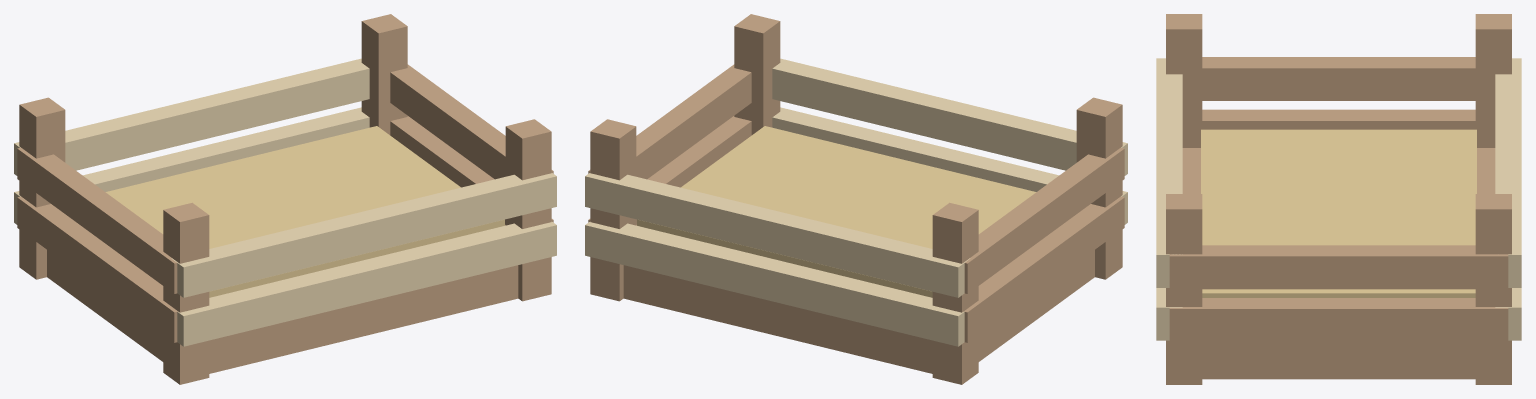
The model's file is nest.glb.
3 renders of one model, left to right at view 1: azimuth 30°, elevation 25°; view 2: azimuth 150°, elevation 25°; view 3: azimuth 270°, elevation 25°, orthographic. The views are drawn at different scales.
Parts seen in each view (by area): view 1: Straw, Rail.004, Rail, Bottom, Rail.005, Rail.006, Rail.002, Rail.001, Rail.007, Post, Post.002, Post.003 (+2 smaller); view 2: Straw, Rail.005, Rail.001, Bottom, Rail.004, Rail.006, Rail.002, Rail, Rail.007, Post.001, Post.003, Post.002 (+2 smaller); view 3: Straw, Rail.007, Rail.003, Bottom, Rail.006, Rail.002, Post.002, Post.003, Rail.004, Rail.005, Post, Post.001 (+2 smaller).
Boxes of the visible parts, x1,y1,x2,y2 form: Straw: (105, 126, 504, 297); Rail.004: (171, 173, 556, 297); Rail: (177, 221, 556, 346); Bottom: (47, 225, 518, 373); Rail.005: (14, 58, 369, 175); Rail.006: (17, 147, 177, 293); Rail.002: (17, 196, 177, 342); Rail.001: (14, 107, 369, 224); Rail.007: (390, 64, 553, 179); Post: (163, 202, 209, 384); Post.002: (505, 119, 551, 301); Post.003: (361, 14, 407, 134); Straw: (637, 126, 1036, 297); Rail.005: (585, 173, 970, 297); Rail.001: (585, 221, 964, 346); Bottom: (623, 225, 1094, 373); Rail.004: (772, 58, 1127, 175); Rail.006: (964, 147, 1124, 293); Rail.002: (964, 196, 1124, 342); Rail: (772, 107, 1127, 224); Rail.007: (588, 64, 751, 179); Post.001: (932, 202, 978, 384); Post.003: (590, 119, 636, 301); Post.002: (734, 14, 780, 134); Straw: (1201, 129, 1476, 297); Rail.007: (1169, 245, 1508, 289); Rail.003: (1169, 298, 1508, 341); Bottom: (1182, 148, 1495, 379); Rail.006: (1202, 57, 1475, 100); Rail.002: (1202, 109, 1475, 129); Post.002: (1166, 194, 1202, 384); Post.003: (1475, 194, 1511, 384); Rail.004: (1156, 58, 1182, 287); Rail.005: (1495, 58, 1521, 287); Post: (1166, 14, 1202, 147); Post.001: (1475, 14, 1511, 147).
Size of the model in its own units: 0.975 by 0.4 by 0.755.
